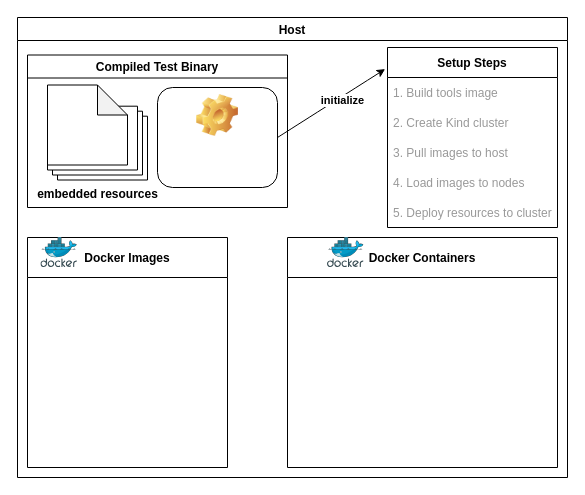
The diagram is 585 pixels wide and 495 high, and some of its shapes have lost their labels. Each missing label, with the centre of its shape:
"Dockerfile" goes at point (87, 124).
"TestMain" goes at point (217, 137).
